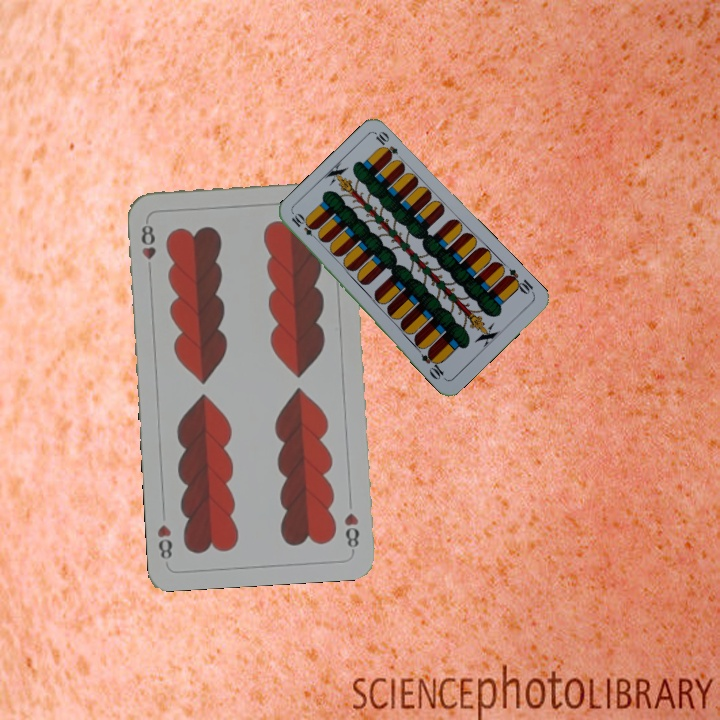E10: (287, 210, 322, 243), (501, 265, 537, 297)
H8: (137, 220, 158, 275), (340, 509, 362, 554)
